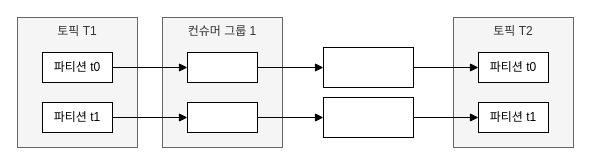
This 591x165 diagram has some shape labels left out. The centre of each missing label's shape, as x and y in pixels:
"컨슈머 A" belongs at (x=222, y=67).
"컨슈머 B" belongs at (x=222, y=117).
"프로듀서 A (트랜잭션 ID: a)" belongs at (x=368, y=67).
"프로듀서 B (트랜잭션 ID: b)" belongs at (x=368, y=117).
